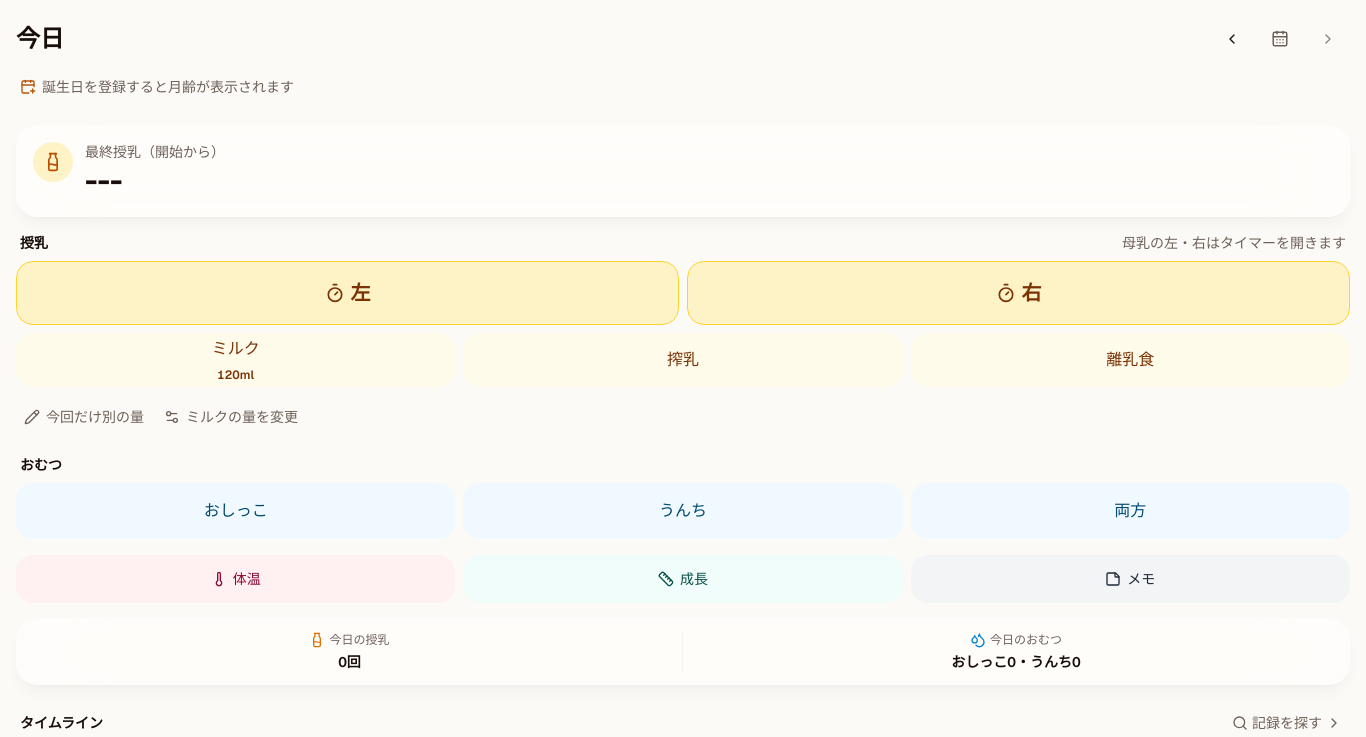
Test case: クイック記録の行は DB の記録時刻で画面に出る › 取り消しの帯も DB の記録時刻（14:20）を示し、タイムラインの行と食い違わぬ
Click the button "ミルク 120ml".
click(236, 360)  # box [16, 332, 455, 386]
(page scrolled)
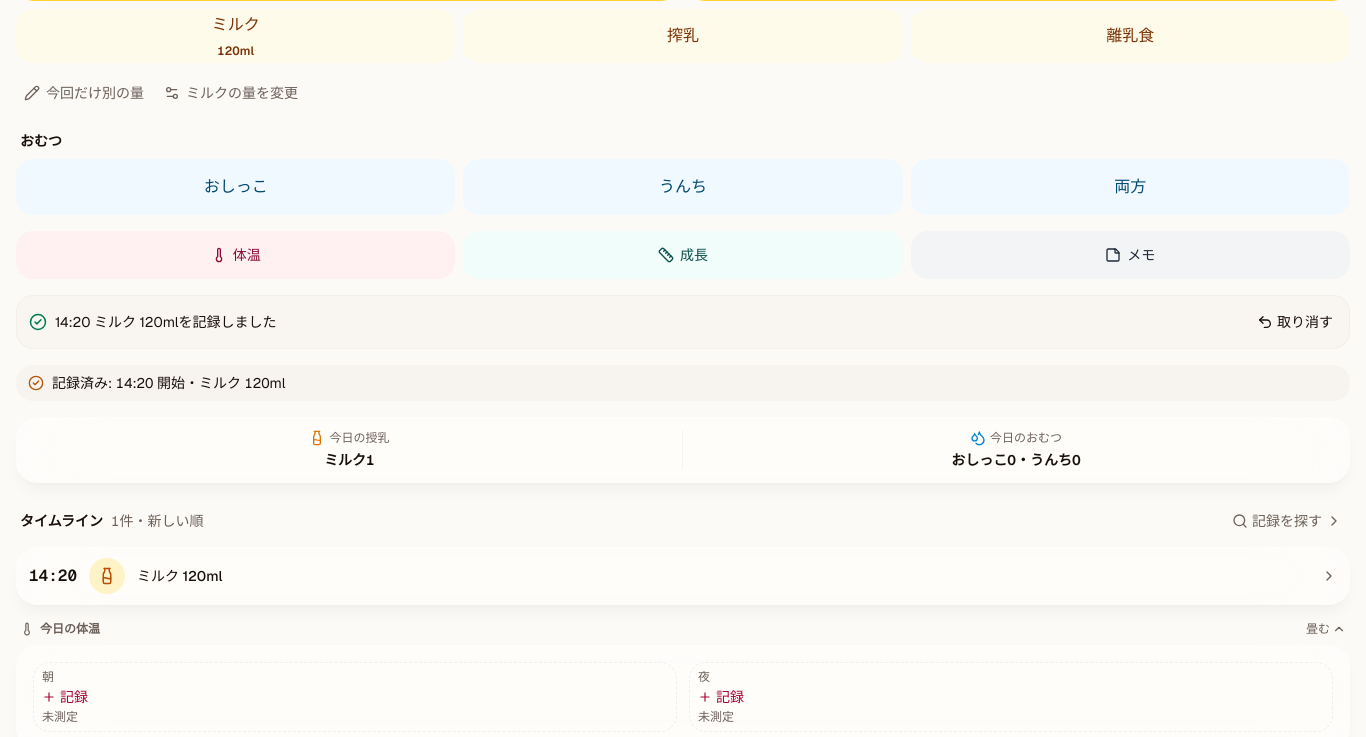
Expected: the button with aria-label "直前の記録（14:20）を取り消す" is shown, [1245, 300, 1345, 344]
Expected: the element with test id "inline-undo" shows "14:20 ミルク 120mlを記録しました", [16, 294, 1350, 348]
